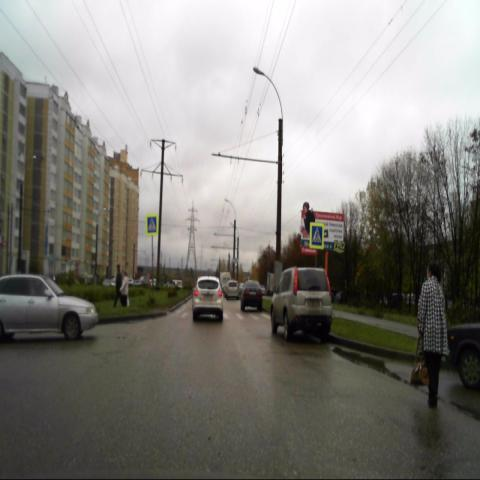5_19_1: (310, 222, 324, 250), (146, 214, 158, 237)
